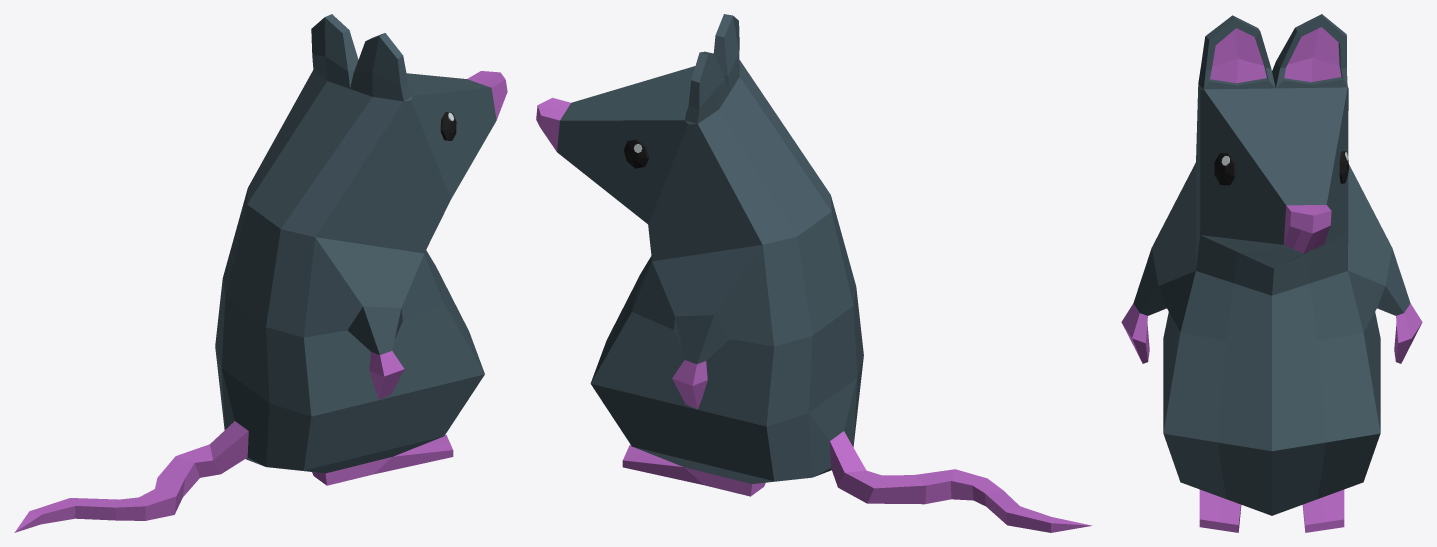
The model's file is Rat_01.obj.
3 views of the same model, side by side, from view 1: azimuth 30°, elevation 25°; view 2: azimuth 150°, elevation 25°; view 3: azimuth 270°, elevation 25° (orthographic). The views are drawn at different scales.
Visible parts, largest first — view 1: Rat_01_Cube.048; view 2: Rat_01_Cube.048; view 3: Rat_01_Cube.048.
Boxes of the visible parts, box(x1,y1,x2,y2) form: Rat_01_Cube.048: box(14, 14, 507, 532); Rat_01_Cube.048: box(536, 14, 1091, 532); Rat_01_Cube.048: box(1121, 14, 1422, 532).
Bounding box in the file's own units: 12.87 × 10.07 × 5.73.
